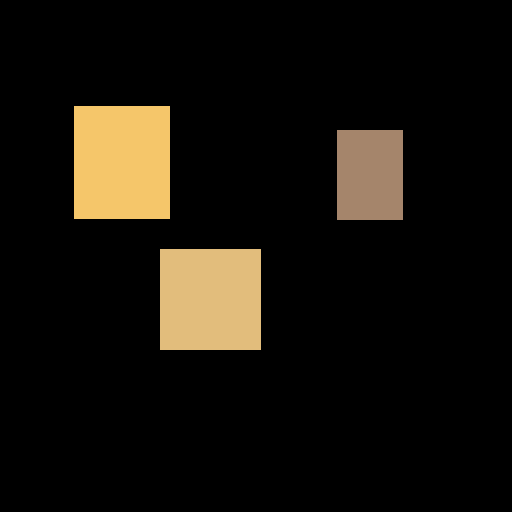rectangle: (74, 106, 169, 218), (337, 130, 402, 219)
square: (160, 249, 260, 349)
